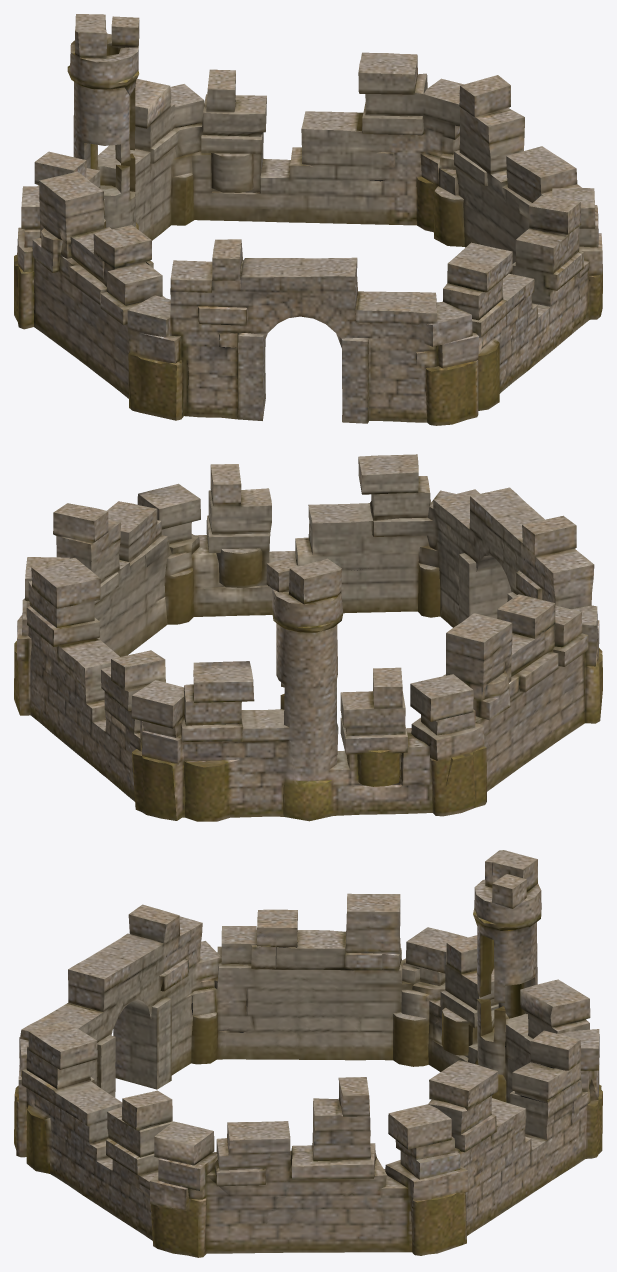
Rendered from fallen-realm-ruin.glb.
3 views of the same model, one above another, from view 1: azimuth 30°, elevation 25°; view 2: azimuth 150°, elevation 25°; view 3: azimuth 270°, elevation 25° (orthographic). The views are drawn at different scales.
Visible parts, largest first — view 1: architecture; view 2: architecture; view 3: architecture.
Boxes of the visible parts, x1,y1,x2,y2 form: architecture: (14, 14, 602, 425); architecture: (14, 454, 602, 821); architecture: (14, 850, 602, 1257).
Size of the model in its own units: 1.54 by 0.7561 by 1.72.
1 material, 1 textured.
